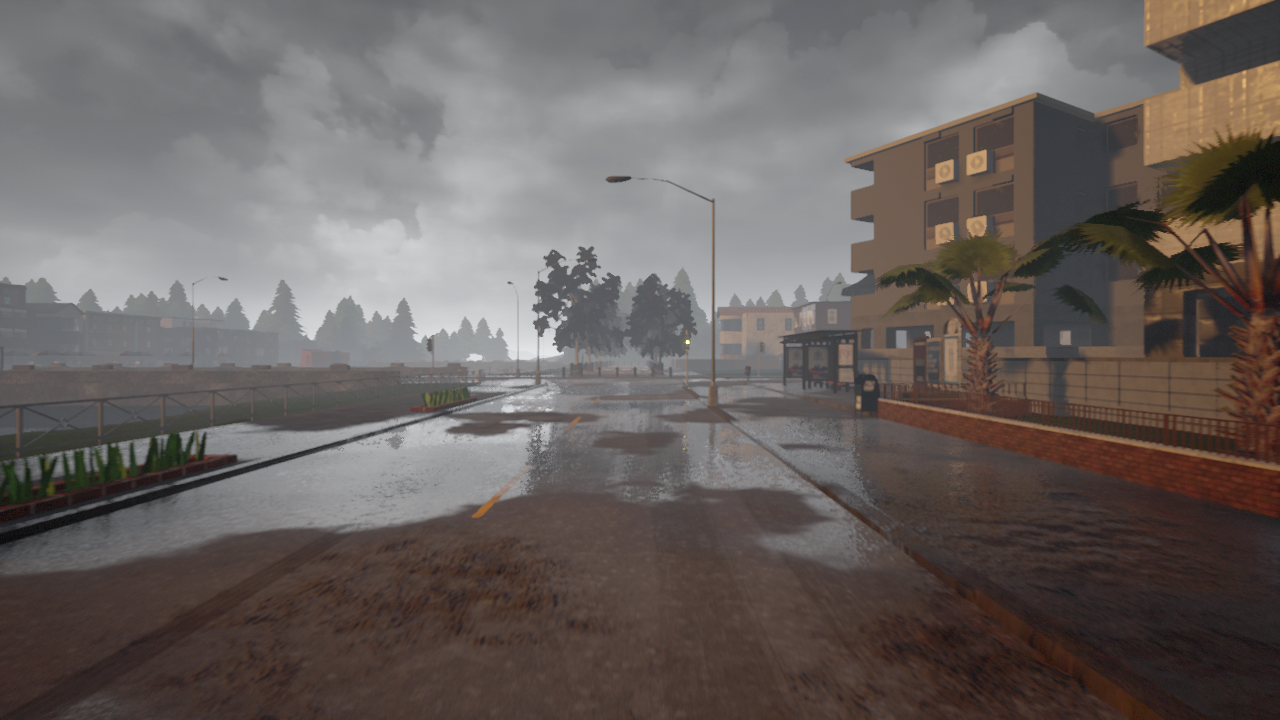yellow: (684, 334, 690, 349)
